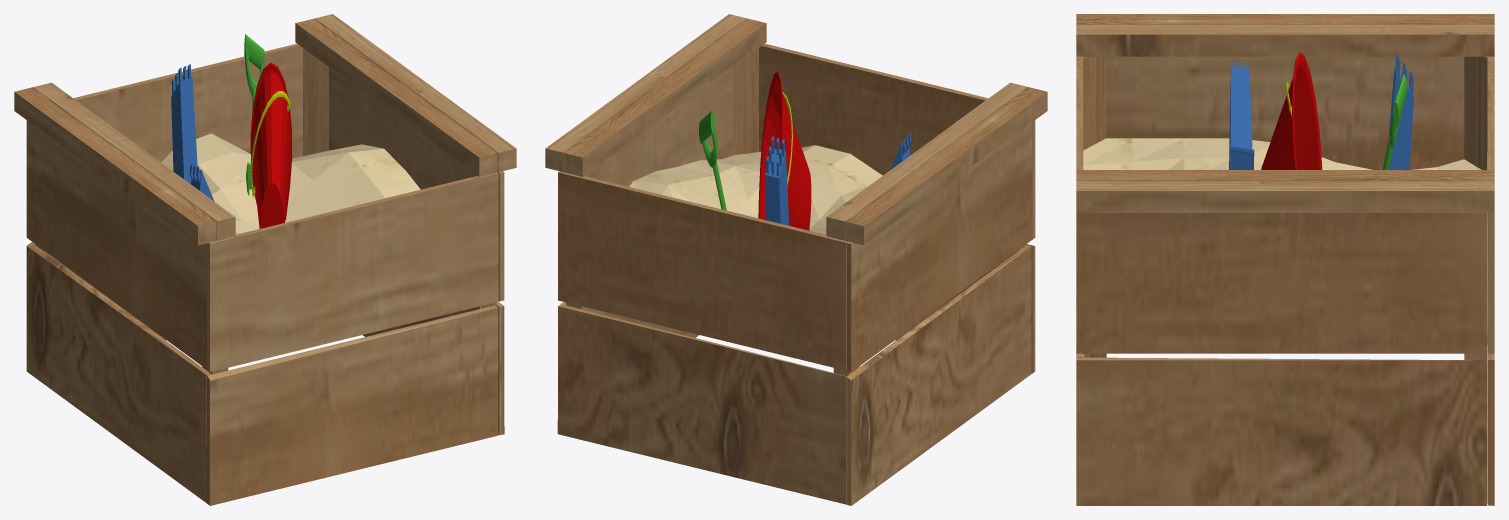
The model's file is sh-scopia-sandpit.glb.
3 renders of one model, left to right at view 1: azimuth 30°, elevation 25°; view 2: azimuth 150°, elevation 25°; view 3: azimuth 270°, elevation 25°, orthographic. The views are drawn at different scales.
Visible parts, largest first — view 1: sand_Plane, bucket.001_Plane.006, Plane.001_Plane.005, Cylinder; view 2: sand_Plane, bucket.001_Plane.006, Plane.001_Plane.005, Cylinder; view 3: sand_Plane, bucket.001_Plane.006, Plane.001_Plane.005, Cylinder.
Boxes of the visible parts, x1,y1,x2,y2 form: sand_Plane: (14, 14, 516, 505); bucket.001_Plane.006: (250, 62, 292, 228); Plane.001_Plane.005: (171, 64, 214, 201); Cylinder: (244, 34, 264, 195); sand_Plane: (545, 14, 1047, 505); bucket.001_Plane.006: (758, 72, 811, 230); Plane.001_Plane.005: (765, 133, 911, 225); Cylinder: (699, 110, 726, 210); sand_Plane: (1076, 14, 1494, 505); bucket.001_Plane.006: (1261, 52, 1322, 169); Plane.001_Plane.005: (1229, 54, 1413, 169); Cylinder: (1382, 74, 1406, 169).
Size of the model in its own units: 1 by 1 by 1.
5 materials, 1 textured.
